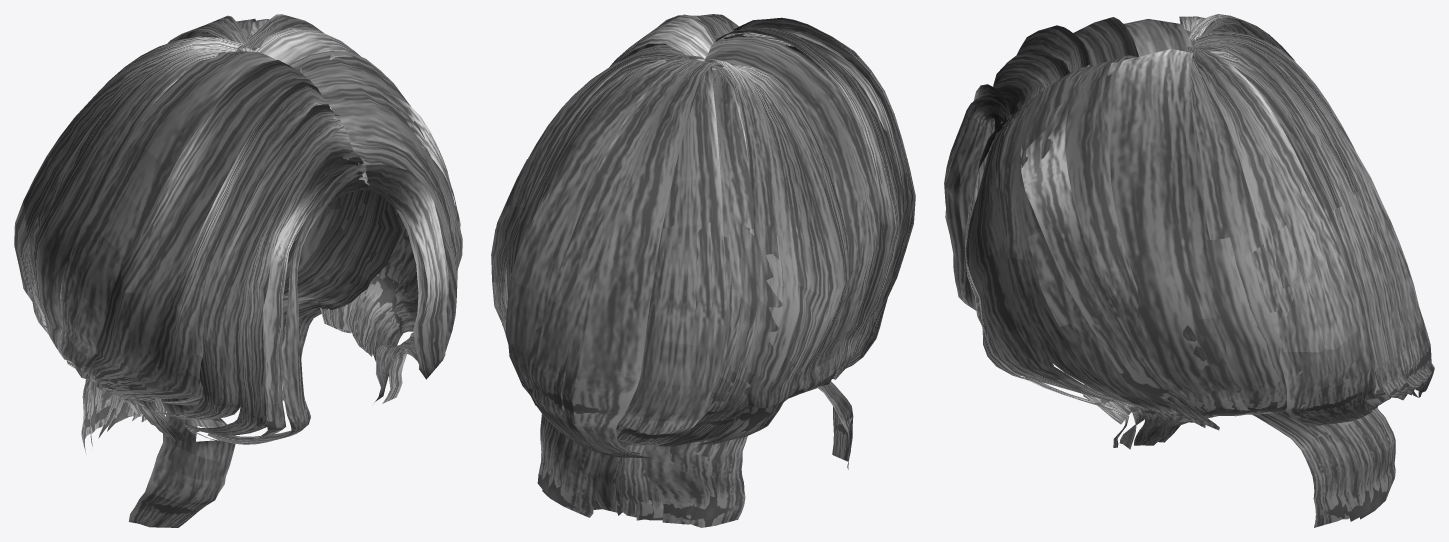
File: daz_hair_air_bangs_long.glb
3 renders of one model, left to right at view 1: azimuth 30°, elevation 25°; view 2: azimuth 150°, elevation 25°; view 3: azimuth 270°, elevation 25°, orthographic. The views are drawn at different scales.
Visible parts, largest first — view 1: daz_hair_air_bangs_long; view 2: daz_hair_air_bangs_long; view 3: daz_hair_air_bangs_long.
Boxes of the visible parts, x1,y1,x2,y2 form: daz_hair_air_bangs_long: (14,14,462,527); daz_hair_air_bangs_long: (491,14,915,527); daz_hair_air_bangs_long: (944,14,1434,527).
Size of the model in its own units: 0.2063 by 0.2443 by 0.2443.
1 material, 1 textured.
